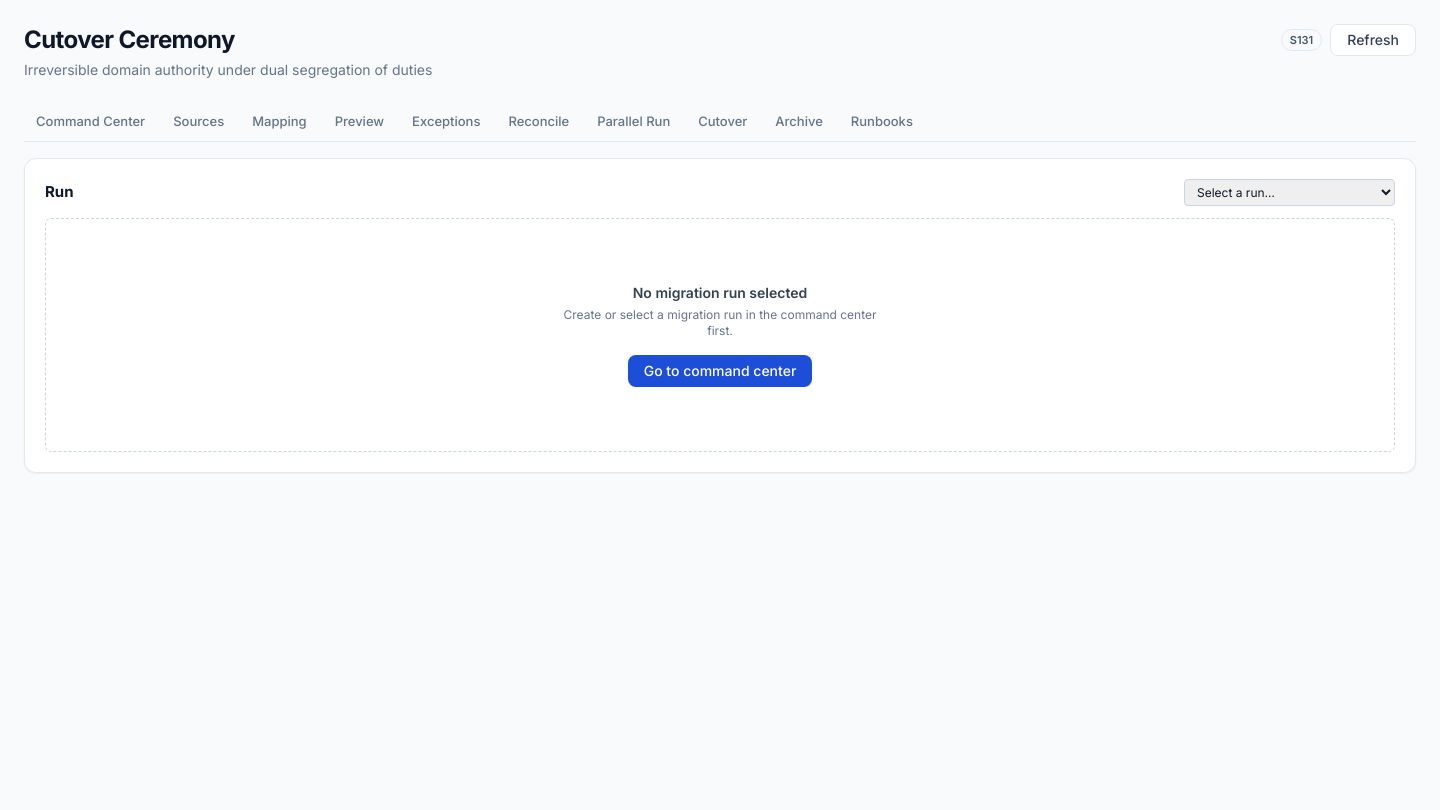
MigrationCutover › shows the restart plan the service computed
Step 1. Select "run-a · READY_FOR_CUTOVER" in the dropdown with test id "cutover-run-select" → x=1290, y=192, box [1184,178,1395,206]
(page scrolled)
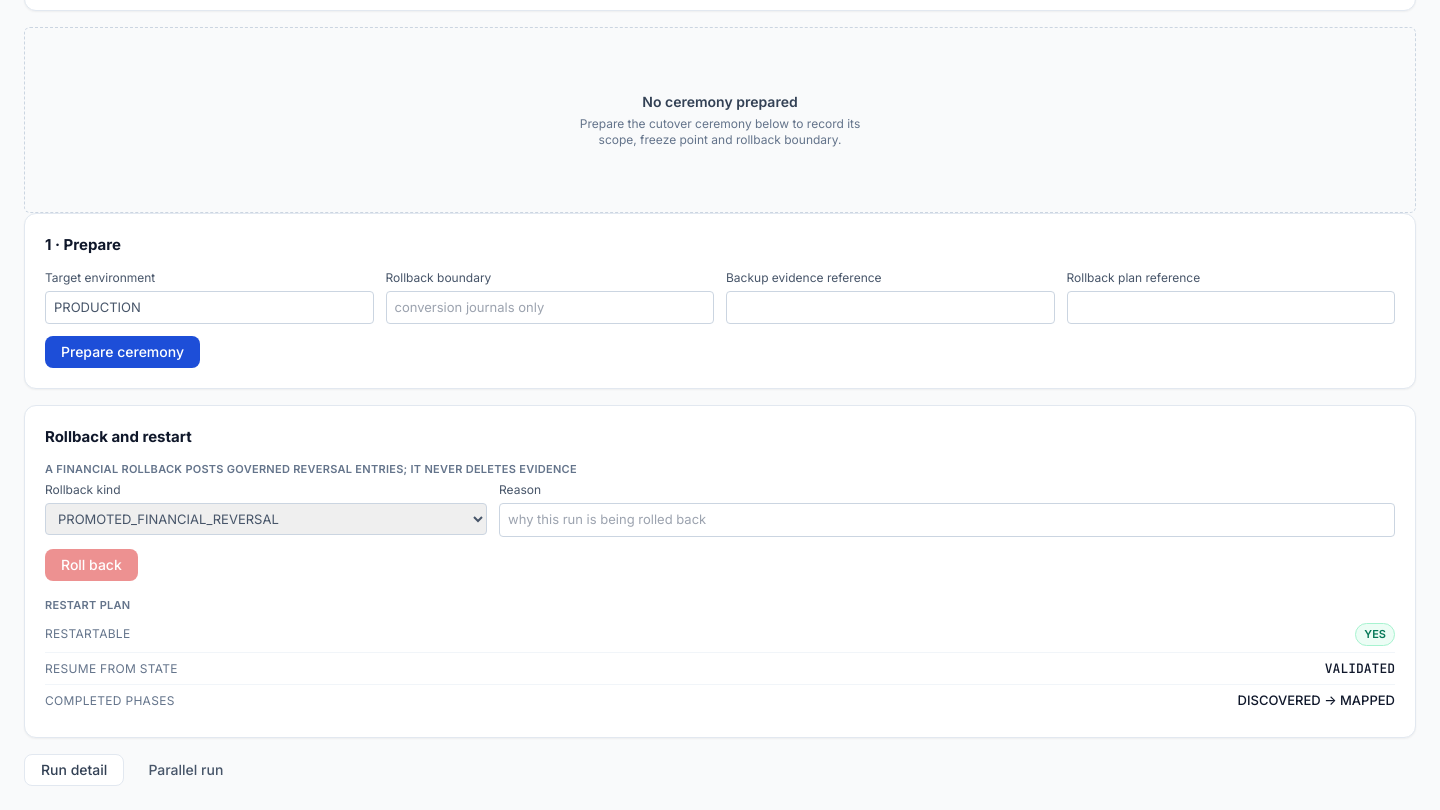
Check: the element with test id "restart-plan" is shown, box [45,596,1395,716]
Check: the element with test id "restart-restartable" reads "YES", box [1364,627,1386,641]
Check: the element with test id "restart-resume-from" reads "VALIDATED", box [1325,660,1395,676]
